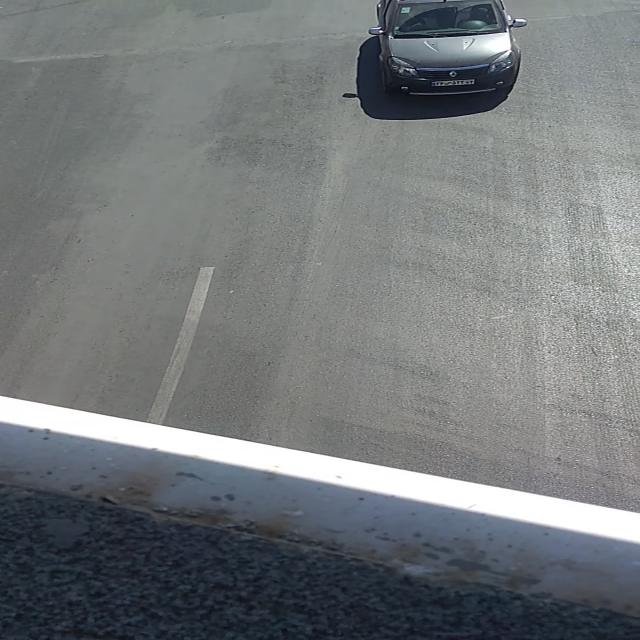car: (367, 1, 530, 94)
